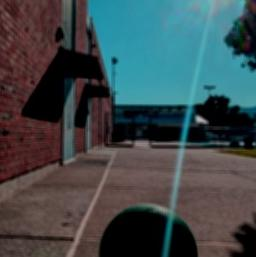algae: (96, 200, 197, 257)
